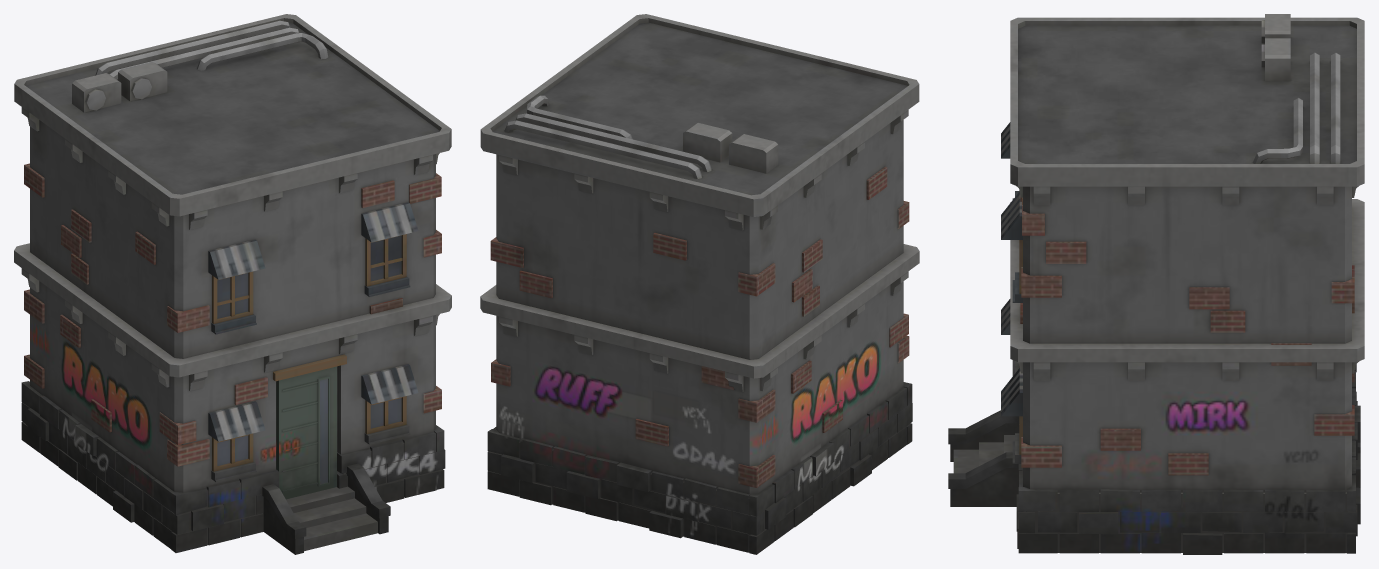
File: building_2Story.glb
3 renders of one model, left to right at view 1: azimuth 30°, elevation 25°; view 2: azimuth 150°, elevation 25°; view 3: azimuth 270°, elevation 25°, orthographic. The views are drawn at different scales.
Visible parts, largest first — view 1: 2Story_low; view 2: 2Story_low; view 3: 2Story_low.
Boxes of the visible parts, <box> form: 2Story_low: <box>14,14,451,554</box>; 2Story_low: <box>480,14,919,554</box>; 2Story_low: <box>948,14,1364,554</box>.
Size of the model in its own units: 2.16 by 2.75 by 2.53.
2 materials, 2 textured.
